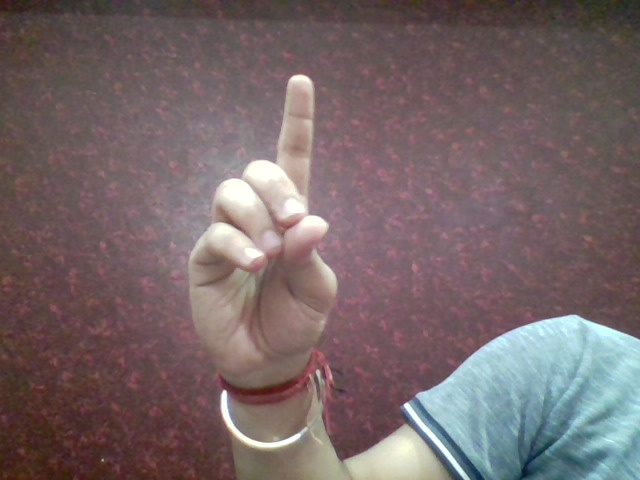d: (174, 69, 359, 366)
